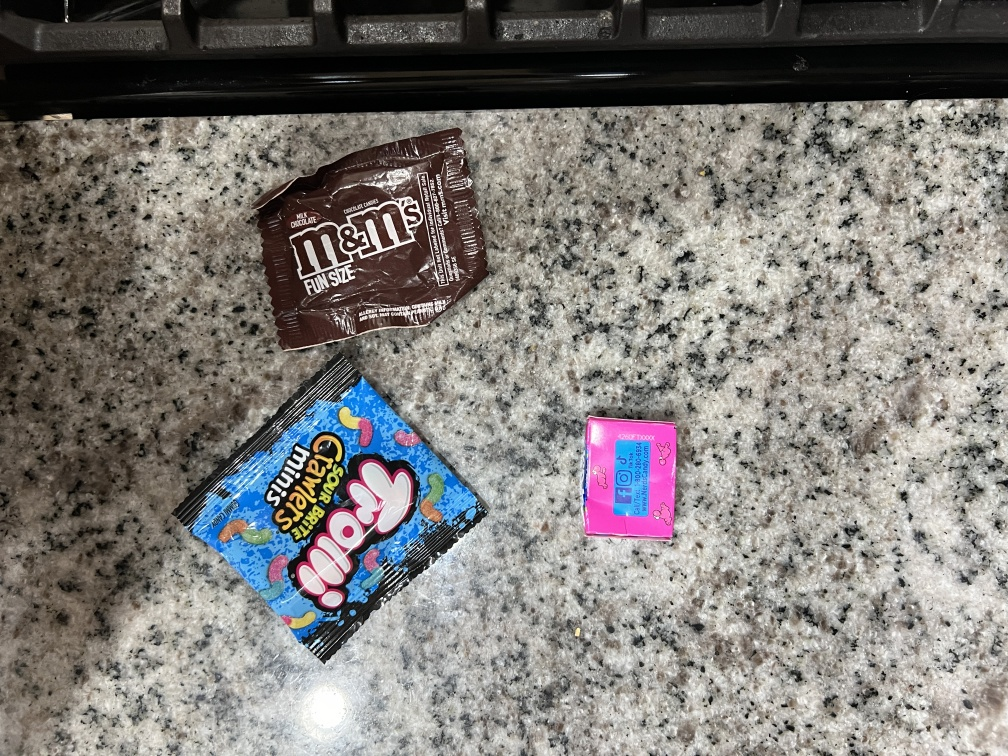gummy_worms: (182, 352, 496, 652), (244, 132, 495, 350)
nerds: (577, 403, 684, 541)
